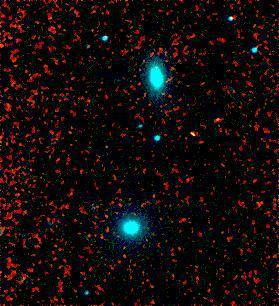star: (175, 119, 205, 149)
